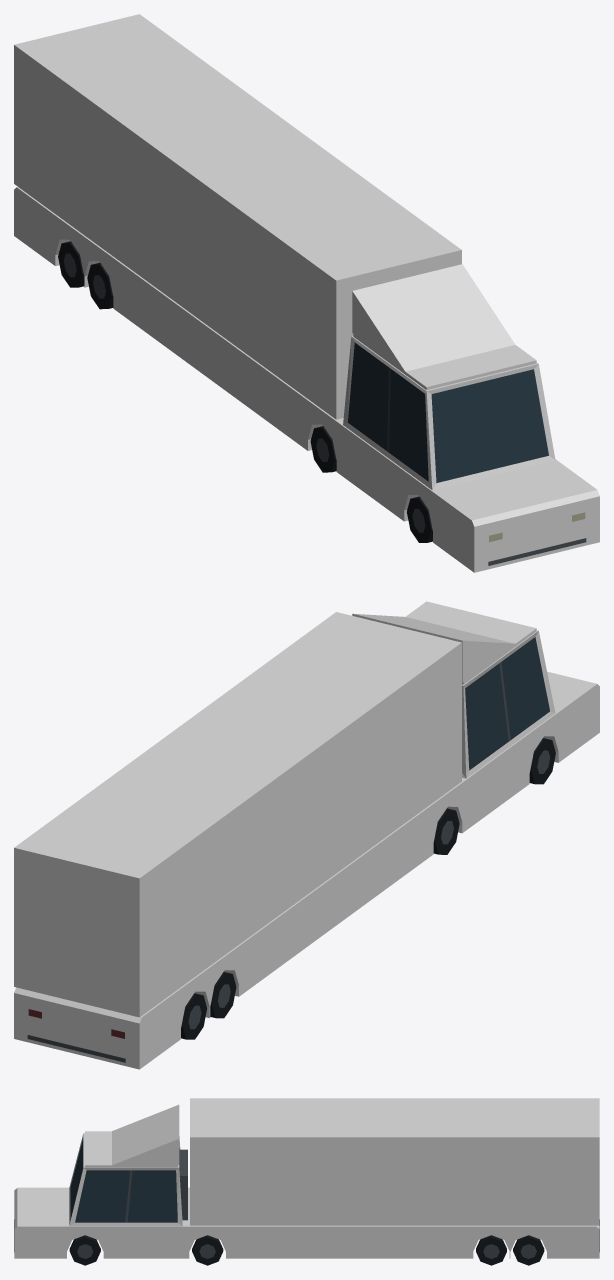
Rendered from semi.glb.
3 views of the same model, one above another, from view 1: azimuth 30°, elevation 25°; view 2: azimuth 150°, elevation 25°; view 3: azimuth 270°, elevation 25° (orthographic). The views are drawn at different scales.
Visible parts, largest first — view 1: vehicle_body; view 2: vehicle_body; view 3: vehicle_body.
Boxes of the visible parts, box(x1,y1,x2,y2) form: vehicle_body: box(14, 14, 599, 572); vehicle_body: box(14, 601, 599, 1069); vehicle_body: box(14, 1098, 599, 1265).
Bounding box in the file's own units: 2.6 × 4 × 16.52.
